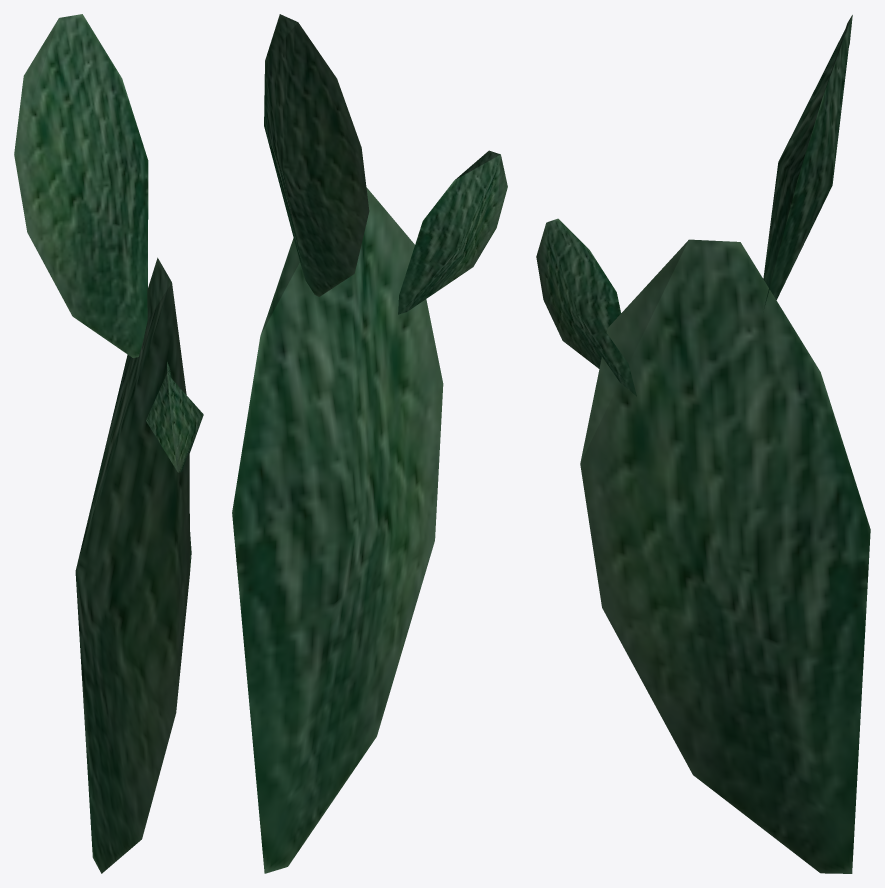
The model's file is pir_m_prp_vol_cactus_e.fbx.
3 renders of one model, left to right at view 1: azimuth 30°, elevation 25°; view 2: azimuth 150°, elevation 25°; view 3: azimuth 270°, elevation 25°, orthographic.
Parts seen in each view (by area): view 1: leaf3, leaf11, leaf5; view 2: leaf3, leaf11, leaf5; view 3: leaf3, leaf11, leaf5.
Part boxes in pixels (left/top/right/bottom): leaf3: left=75, top=257, right=191, bottom=873; leaf11: left=14, top=14, right=148, bottom=357; leaf5: left=146, top=362, right=203, bottom=472; leaf3: left=232, top=187, right=443, bottom=873; leaf11: left=264, top=14, right=369, bottom=296; leaf5: left=398, top=150, right=507, bottom=314; leaf3: left=580, top=239, right=870, bottom=873; leaf11: left=763, top=15, right=852, bottom=308; leaf5: left=536, top=218, right=636, bottom=396.
Size of the model in its own units: 15.86 by 94.66 by 33.85.
Materials: 1 (1 with a texture image).
